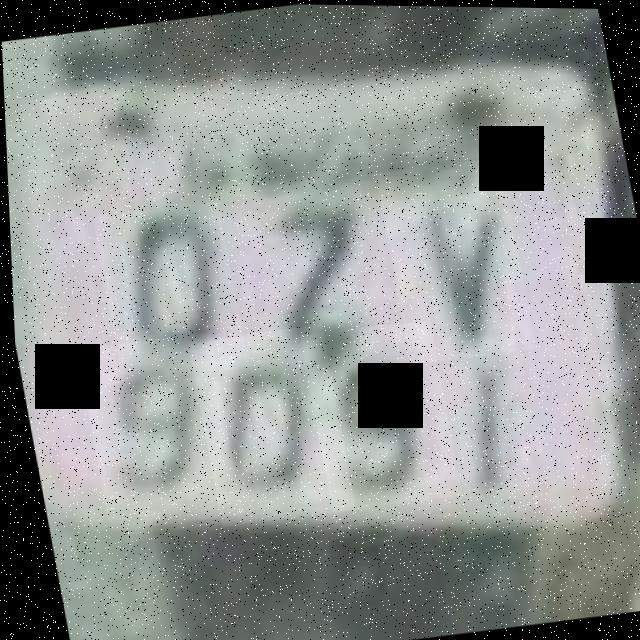0: (185, 324, 352, 527)
1: (428, 318, 550, 479)
9: (73, 330, 239, 533), (296, 318, 458, 513)
O: (90, 199, 246, 384)
Y: (373, 154, 534, 365)
Z: (221, 184, 389, 364)
